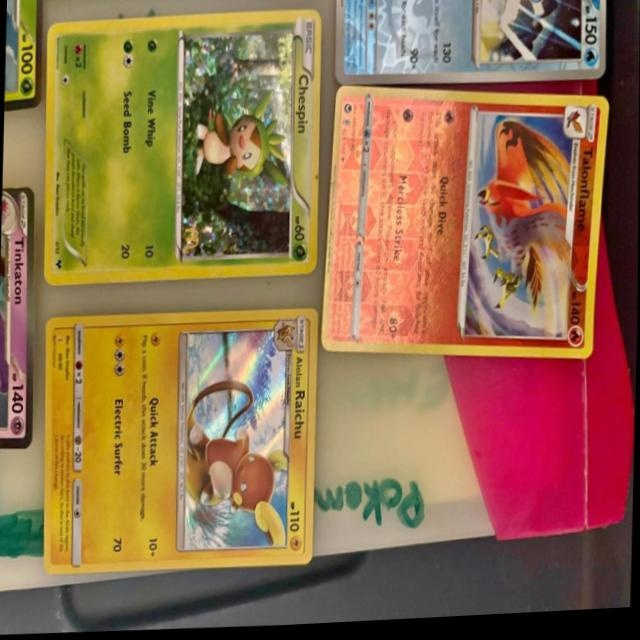card: (320, 89, 609, 367), (42, 13, 321, 286), (42, 310, 318, 576), (334, 0, 605, 89), (0, 186, 33, 449)
